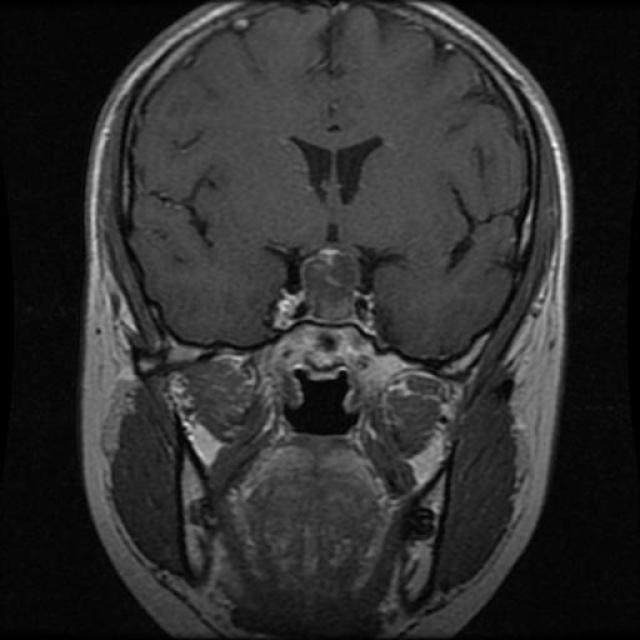pituitary: (267, 231, 386, 365)
